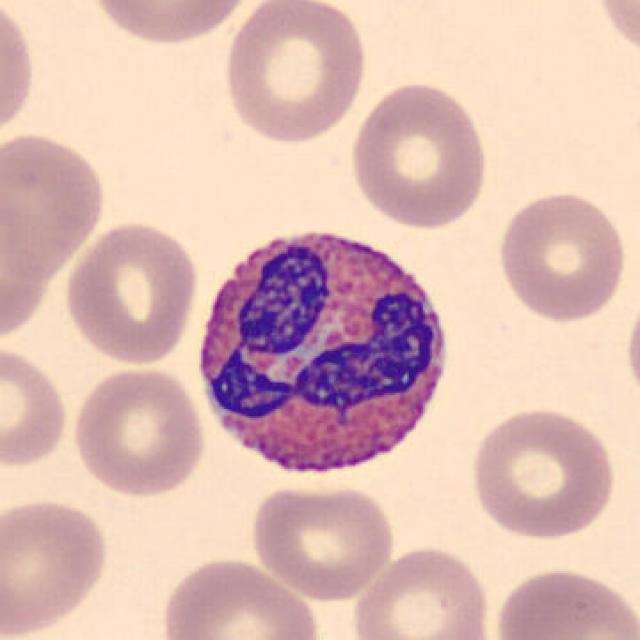Eosinophil: (185, 210, 462, 492)
RBC: (345, 78, 492, 231), (218, 0, 371, 146), (61, 217, 202, 367), (466, 404, 618, 543), (68, 363, 208, 499), (492, 187, 630, 324), (247, 480, 398, 603), (0, 492, 112, 640), (0, 127, 110, 277), (154, 553, 325, 640), (348, 543, 496, 640), (489, 562, 638, 640), (0, 340, 73, 472), (81, 0, 259, 49), (0, 192, 52, 339), (0, 0, 39, 148), (590, 0, 640, 65), (622, 282, 640, 413)
